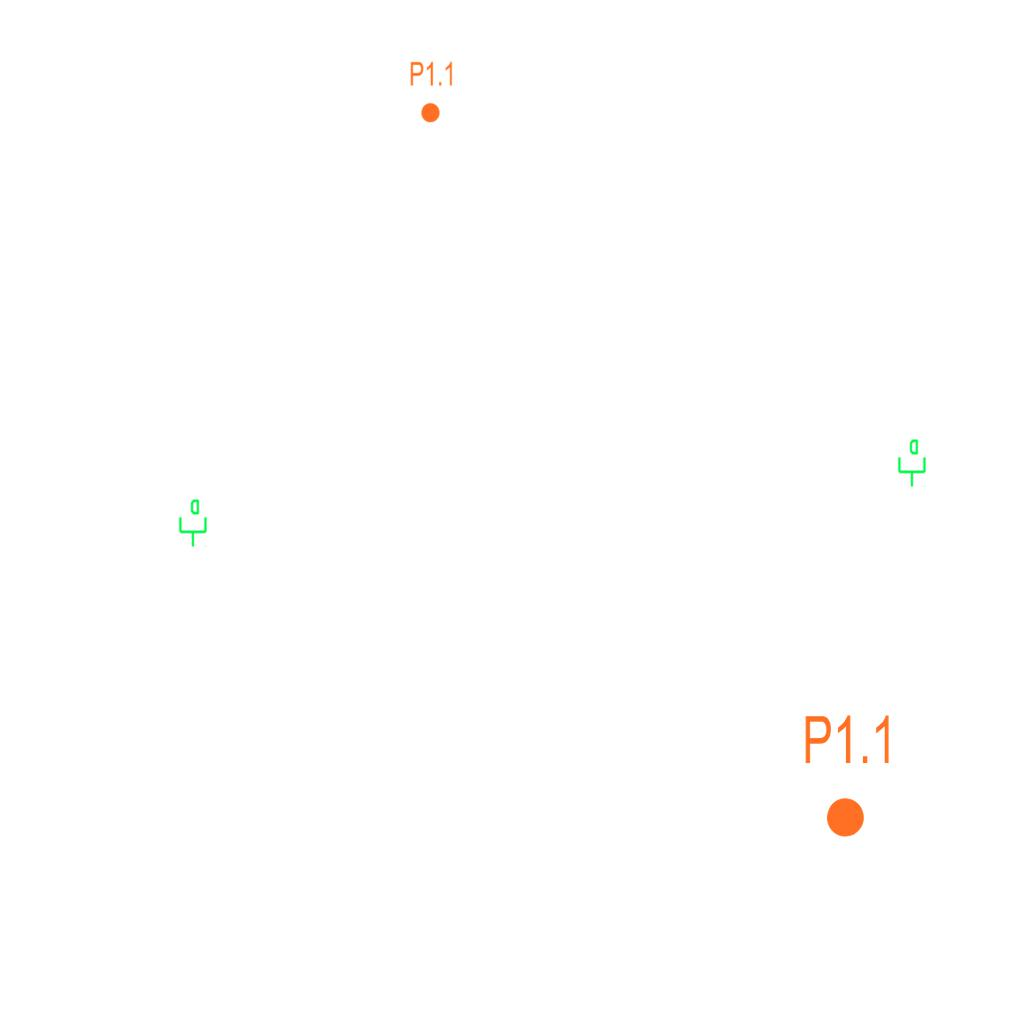Datenanschluss_einfach: (894, 438, 928, 488), (175, 498, 209, 548)
Downlight_LED_Einbauleuchten_Flur: (802, 712, 895, 840), (409, 60, 455, 124)
